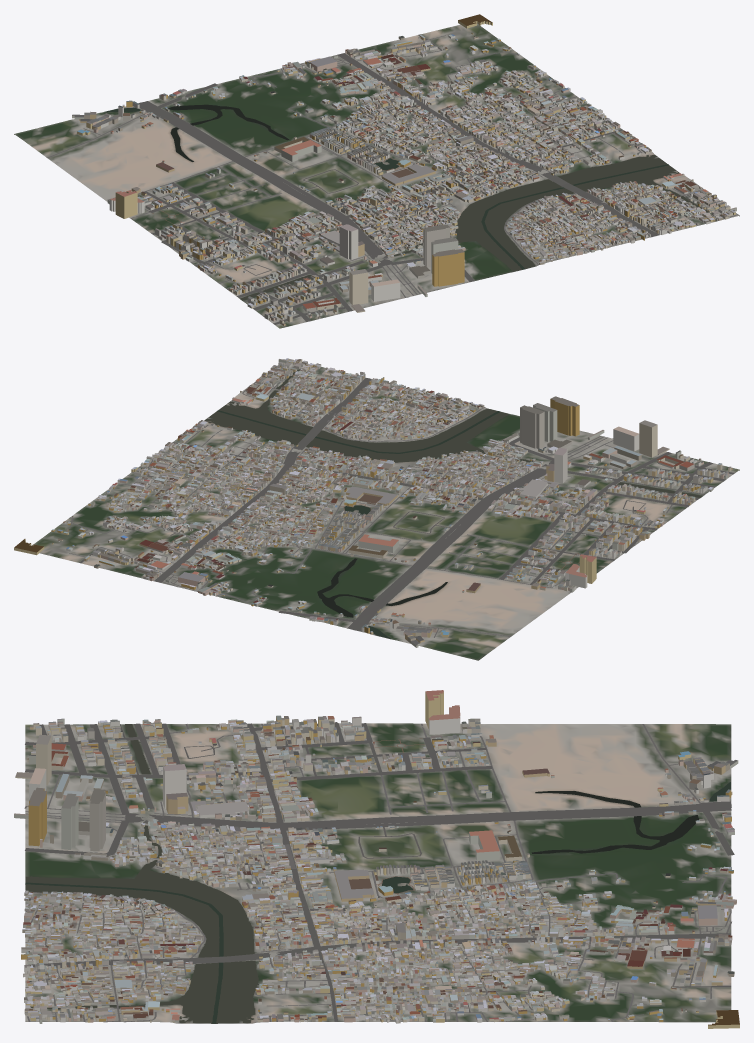
3 views of the same model, one above another, from view 1: azimuth 30°, elevation 25°; view 2: azimuth 150°, elevation 25°; view 3: azimuth 270°, elevation 25° (orthographic). The views are drawn at different scales.
Parts seen in each view (by area): view 1: buildings, ground, roads, water; view 2: buildings, ground, roads, water; view 3: buildings, ground, roads, water.
Part boxes in pixels (x1=…): buildings: x1=72, y1=14, x2=736, y2=325; ground: x1=14, y1=23, x2=739, y2=328; roads: x1=47, y1=34, x2=738, y2=324; water: x1=104, y1=104, x2=716, y2=300; buildings: x1=14, y1=358, x2=732, y2=647; ground: x1=32, y1=360, x2=739, y2=660; roads: x1=69, y1=366, x2=734, y2=637; water: x1=204, y1=369, x2=702, y2=638; buildings: x1=14, y1=690, x2=739, y2=1028; ground: x1=25, y1=723, x2=731, y2=1023; roads: x1=24, y1=722, x2=734, y2=1022; water: x1=25, y1=724, x2=730, y2=1023.
Bounding box in the file's own units: 1451 × 109 × 1440.
